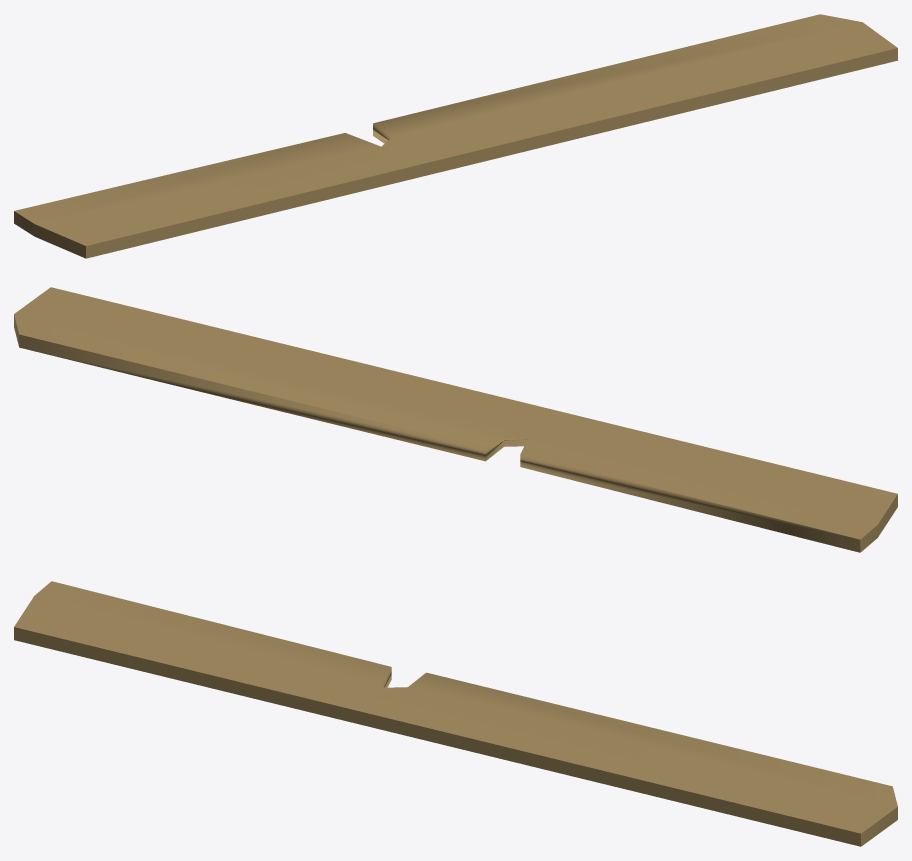
The model's file is Board_04.fbx.
3 renders of one model, top to bottom at view 1: azimuth 30°, elevation 25°; view 2: azimuth 150°, elevation 25°; view 3: azimuth 330°, elevation 25°, orthographic. The views are drawn at different scales.
Visible parts, largest first — view 1: Board_04; view 2: Board_04; view 3: Board_04.
Part boxes in pixels (left/top/right/bottom): Board_04: left=14, top=14, right=897, bottom=258; Board_04: left=14, top=287, right=897, bottom=552; Board_04: left=14, top=581, right=897, bottom=846.
Size of the model in its own units: 146 by 2.12 by 16.49.
